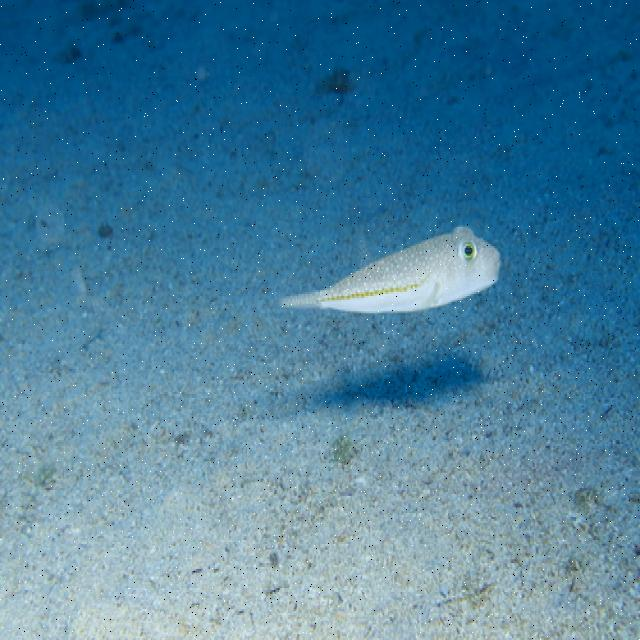Balik: (282, 227, 500, 313)
